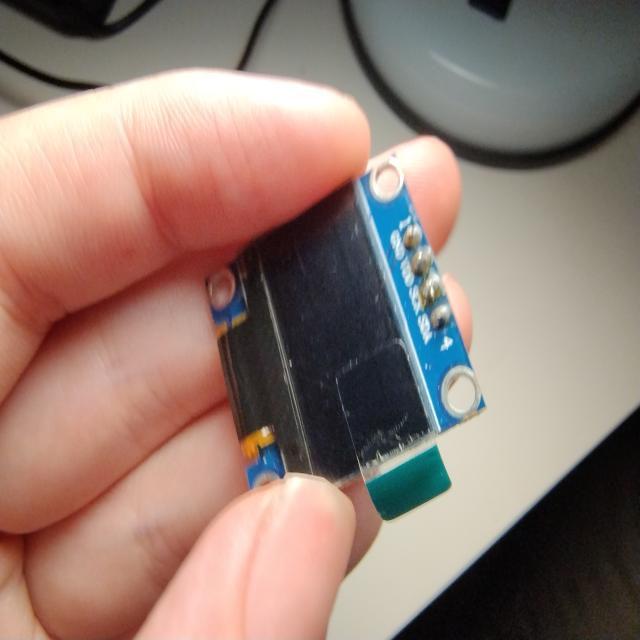oled: (204, 157, 491, 536)
